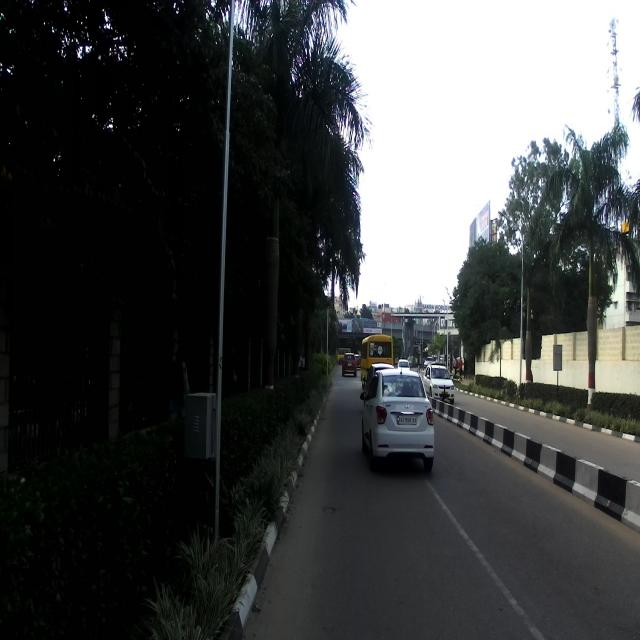Car_Hyundai: (359, 367, 435, 472)
